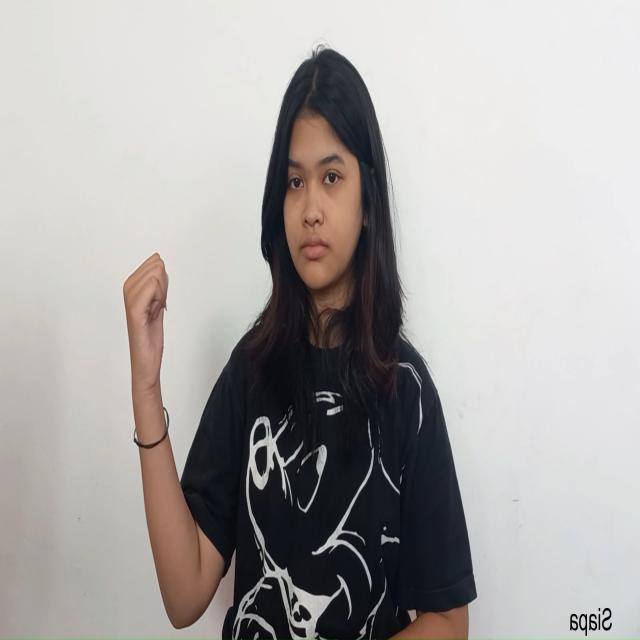Siapa -BISINDO-: (121, 248, 170, 410)
